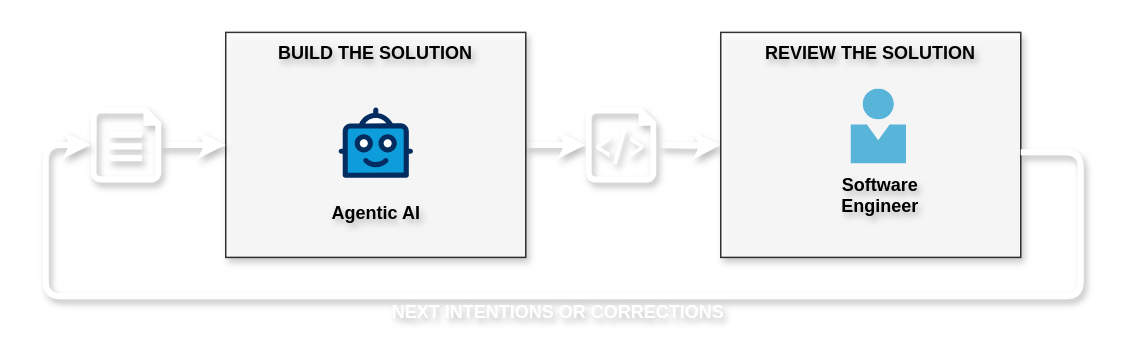
The diagram is 1130 pixels wide and 348 high, and some of its shapes have lost their labels. The centre of each missing label's shape, as x and y in pixels:
INTENTIONS: (127,146)
USABLE SOFTWARE: (621,146)
